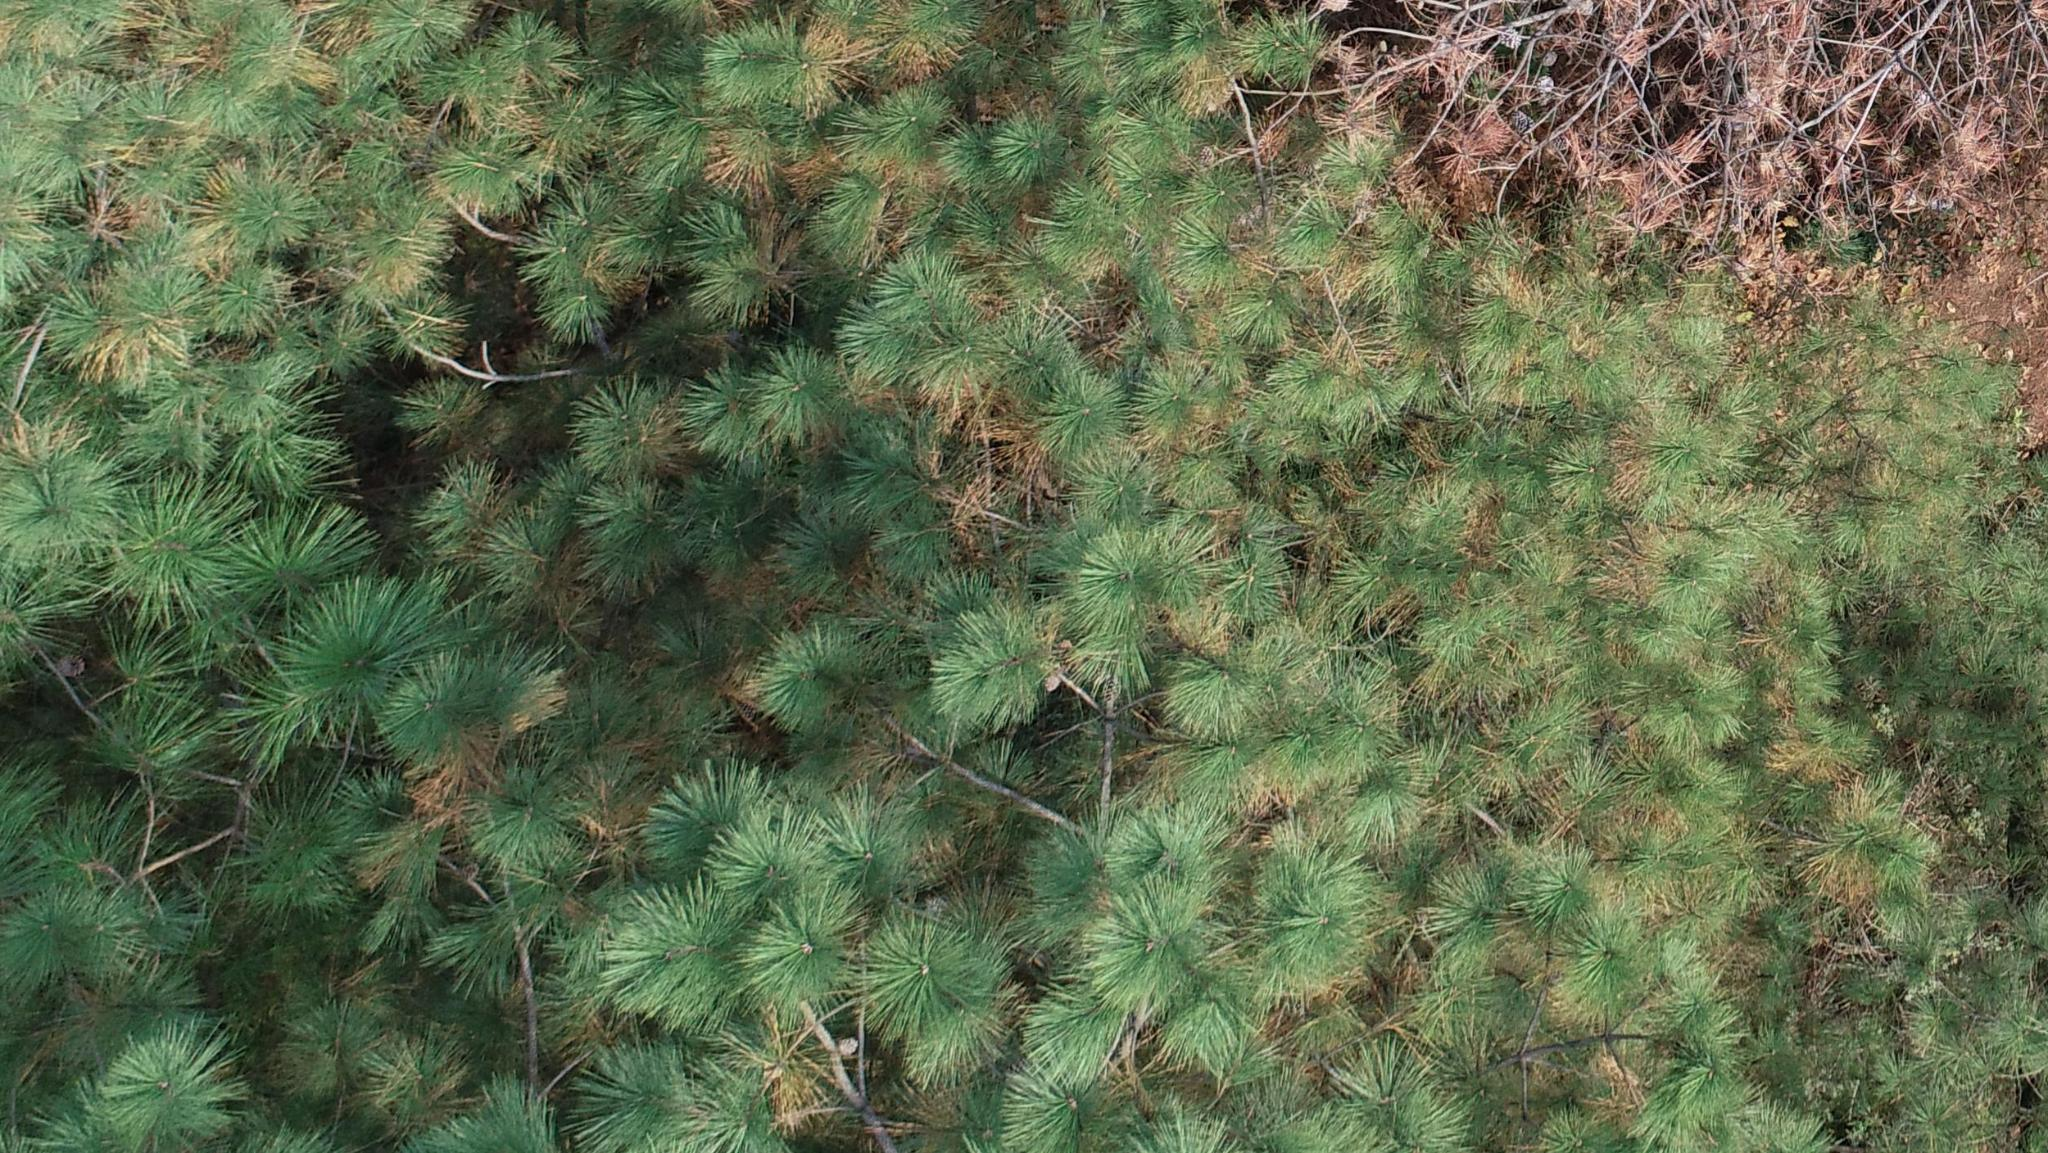heavy: (1294, 0, 2048, 333)
light: (1353, 436, 2024, 1153), (702, 8, 1263, 796), (3, 6, 595, 652)
